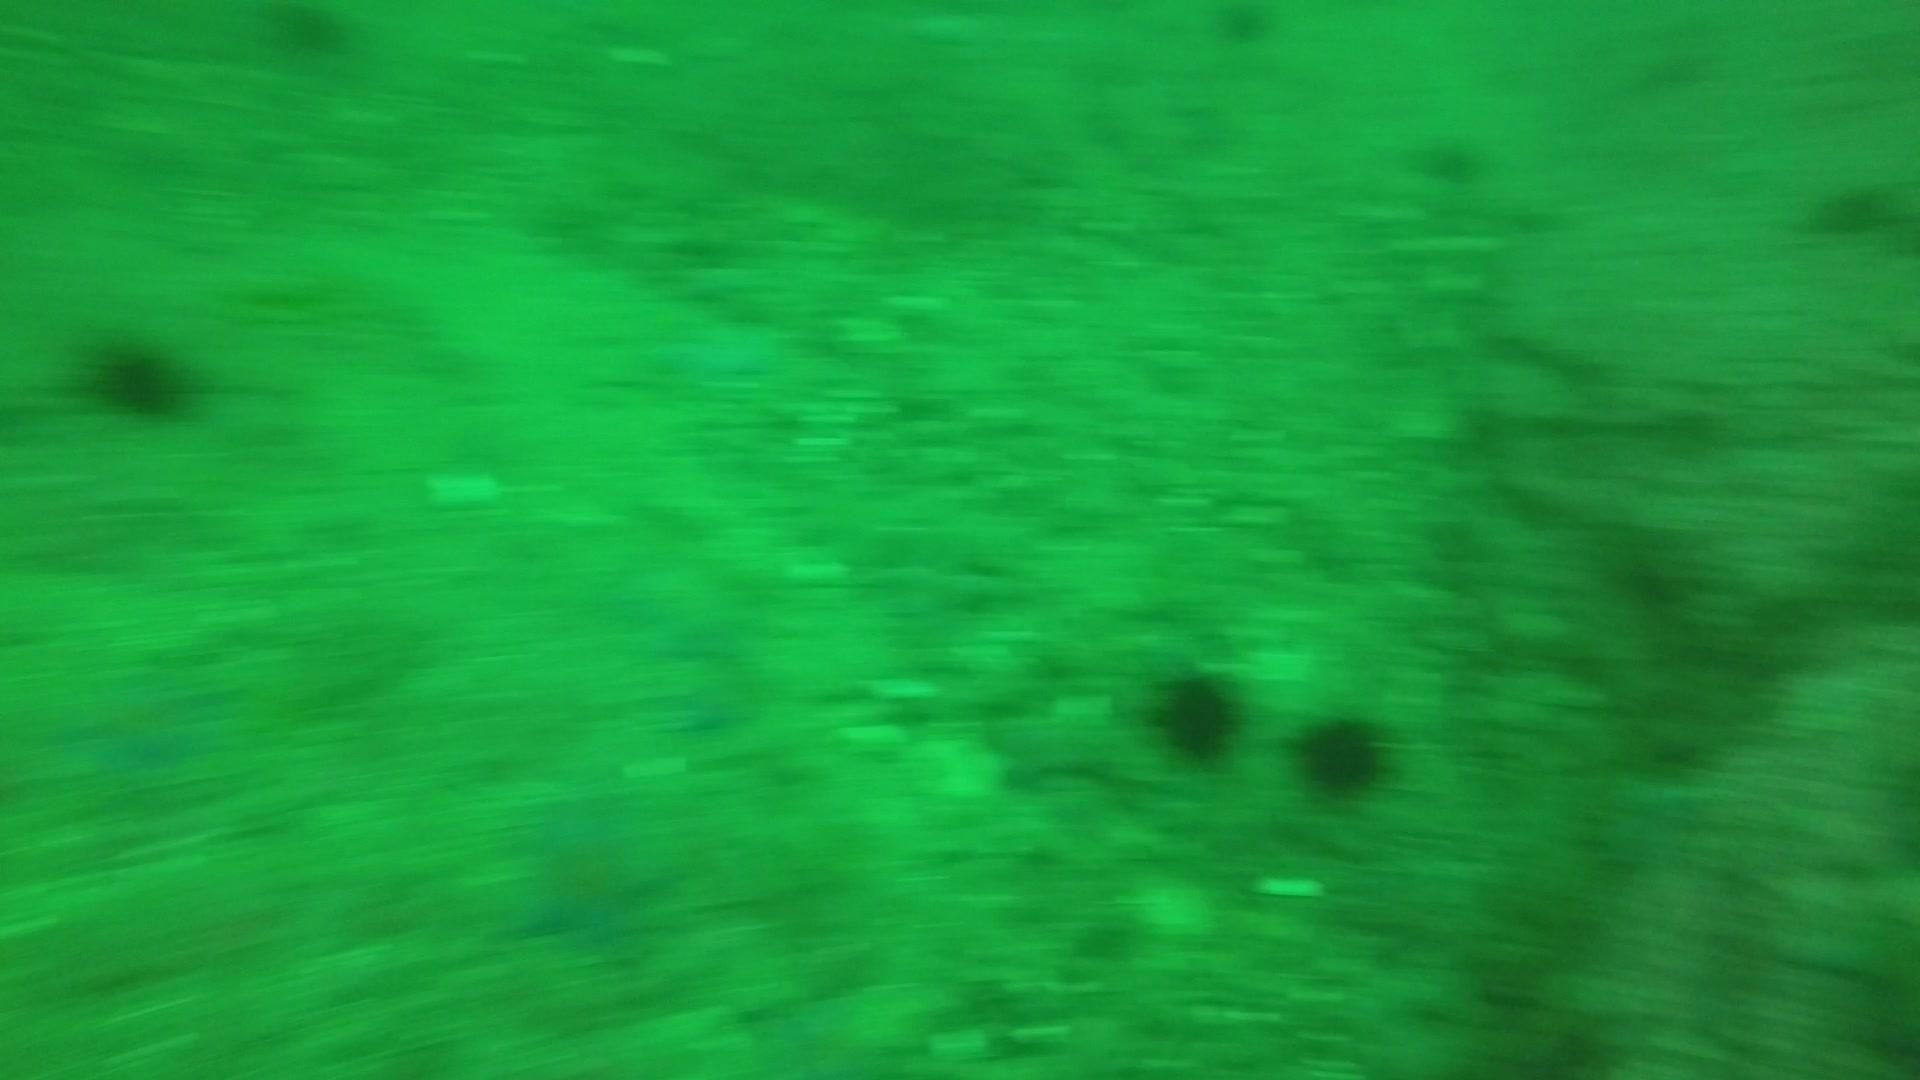echinus: (75, 324, 203, 426), (1143, 661, 1249, 767), (1288, 704, 1396, 804), (1801, 167, 1911, 249), (251, 1, 364, 67), (1408, 124, 1491, 191), (1191, 1, 1275, 67)
starfish: (492, 790, 678, 951), (37, 651, 240, 787), (653, 314, 793, 388)
